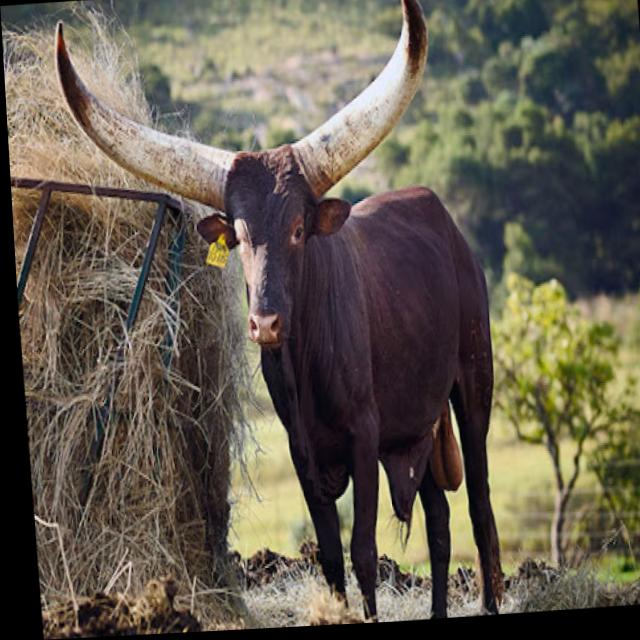cowFace: (39, 0, 456, 381)
